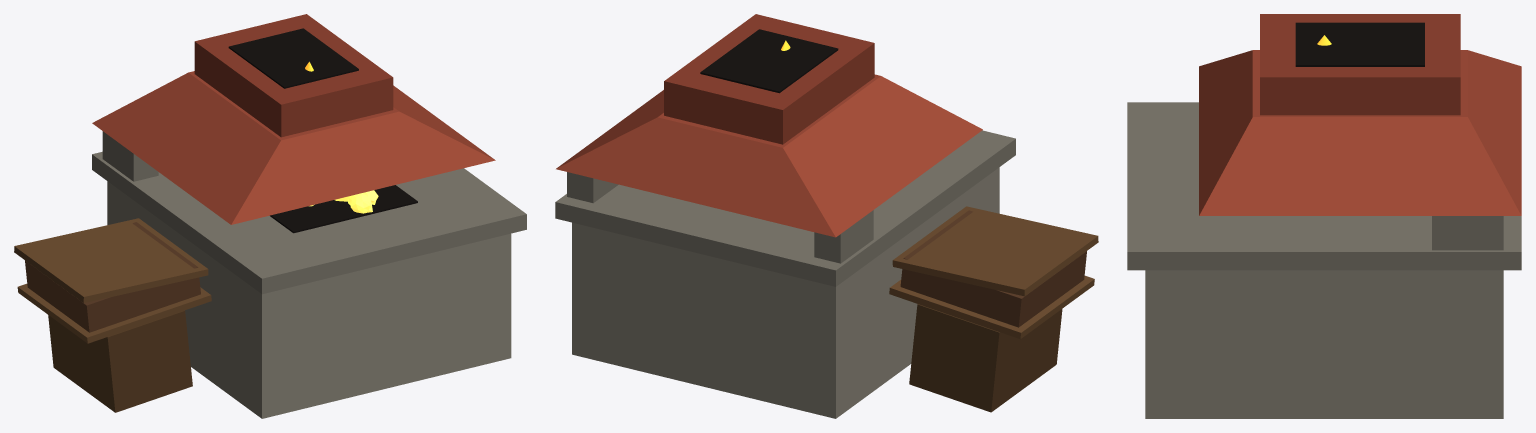
File: forge-hearth-a.glb
3 renders of one model, left to right at view 1: azimuth 30°, elevation 25°; view 2: azimuth 150°, elevation 25°; view 3: azimuth 270°, elevation 25°, orthographic. The views are drawn at different scales.
Parts seen in each view (by area): view 1: Body_Stone, Body_Brick, Body_StoneDark, Body_BrickDark, Body_Wood, Body_WoodDark, Body_Dark, Body_Leather, Body_Glow; view 2: Body_Stone, Body_Brick, Body_StoneDark, Body_BrickDark, Body_Wood, Body_WoodDark, Body_Leather, Body_Dark; view 3: Body_Stone, Body_Brick, Body_StoneDark, Body_BrickDark, Body_Dark.
Boxes of the visible parts, x1=… form: Body_Stone: x1=107, y1=181, x2=511, y2=418; Body_Brick: x1=92, y1=71, x2=495, y2=224; Body_StoneDark: x1=92, y1=131, x2=526, y2=294; Body_BrickDark: x1=194, y1=14, x2=393, y2=137; Body_Wood: x1=14, y1=218, x2=211, y2=343; Body_WoodDark: x1=48, y1=310, x2=192, y2=412; Body_Dark: x1=228, y1=28, x2=417, y2=233; Body_Leather: x1=25, y1=222, x2=200, y2=332; Body_Glow: x1=309, y1=190, x2=378, y2=213; Body_Stone: x1=572, y1=167, x2=999, y2=418; Body_Brick: x1=556, y1=74, x2=982, y2=237; Body_StoneDark: x1=555, y1=130, x2=1015, y2=286; Body_BrickDark: x1=664, y1=14, x2=874, y2=144; Body_Wood: x1=889, y1=206, x2=1098, y2=339; Body_WoodDark: x1=909, y1=304, x2=1062, y2=412; Body_Leather: x1=900, y1=210, x2=1086, y2=327; Body_Dark: x1=700, y1=29, x2=838, y2=93; Body_Stone: x1=1145, y1=270, x2=1503, y2=418; Body_Brick: x1=1199, y1=50, x2=1521, y2=215; Body_StoneDark: x1=1127, y1=102, x2=1521, y2=270; Body_BrickDark: x1=1260, y1=14, x2=1460, y2=115; Body_Dark: x1=1295, y1=22, x2=1424, y2=66.
Size of the model in its own units: 2.4 by 1.6 by 1.8.
